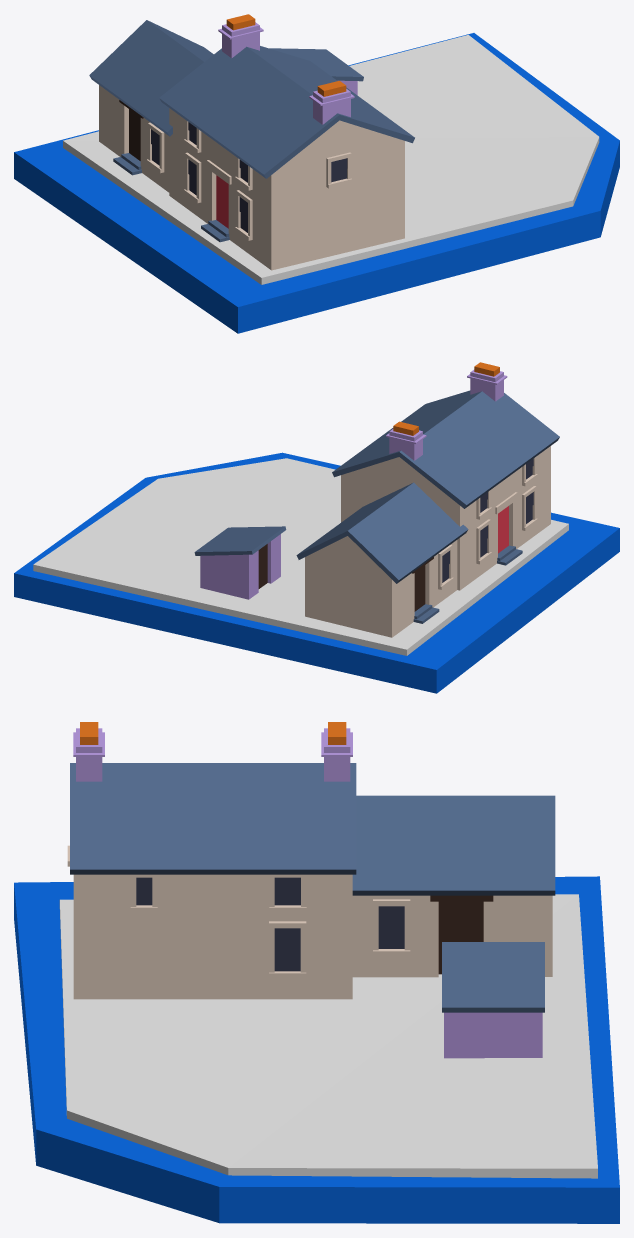
The model's file is Cottage Building.fbx.
The picture shows the model from 3 angles, top to bottom: view 1: azimuth 30°, elevation 25°; view 2: azimuth 150°, elevation 25°; view 3: azimuth 270°, elevation 25°; orthographic projection. The views are drawn at different scales.
Parts seen in each view (by area): view 1: Cotage Landscape, Cottage Foundation, Cube.004, Cottage Slate, Cottage Stone, Cottage Window, Cottage Terra, Cottage Dark Wood, Cottage Dark Wood.001; view 2: Cotage Landscape, Cottage Foundation, Cottage Slate, Cube.004, Cottage Stone, Cottage Dark Wood, Cottage Window, Cottage Terra; view 3: Cotage Landscape, Cottage Slate, Cottage Foundation, Cube.004, Cottage Stone, Cottage Window, Cottage Dark Wood, Cottage Terra.
Boxes of the visible parts, x1,y1,x2,y2 form: Cotage Landscape: (63,35,599,284); Cottage Foundation: (14,33,619,333); Cube.004: (99,85,404,270); Cottage Slate: (89,20,414,242); Cottage Stone: (218,22,357,124); Cottage Window: (151,122,347,232); Cottage Terra: (226,14,346,96); Cottage Dark Wood: (119,100,143,160); Cottage Dark Wood.001: (216,175,228,228); Cotage Landscape: (33,458,568,655); Cottage Foundation: (14,452,619,693); Cottage Slate: (194,390,559,623); Cube.004: (305,446,550,637); Cottage Stone: (200,369,507,599); Cottage Dark Wood: (258,544,433,611); Cottage Window: (442,459,533,582); Cottage Terra: (393,362,499,435); Cotage Landscape: (59,894,597,1178); Cottage Slate: (70,763,555,1012); Cottage Foundation: (14,876,619,1223); Cube.004: (67,845,552,999); Cottage Stone: (73,728,542,1058); Cottage Window: (136,877,404,971); Cottage Dark Wood: (430,895,493,974); Cottage Terra: (80,722,346,744).
Bounding box in the file's own units: 31.04 × 12.58 × 25.55.
